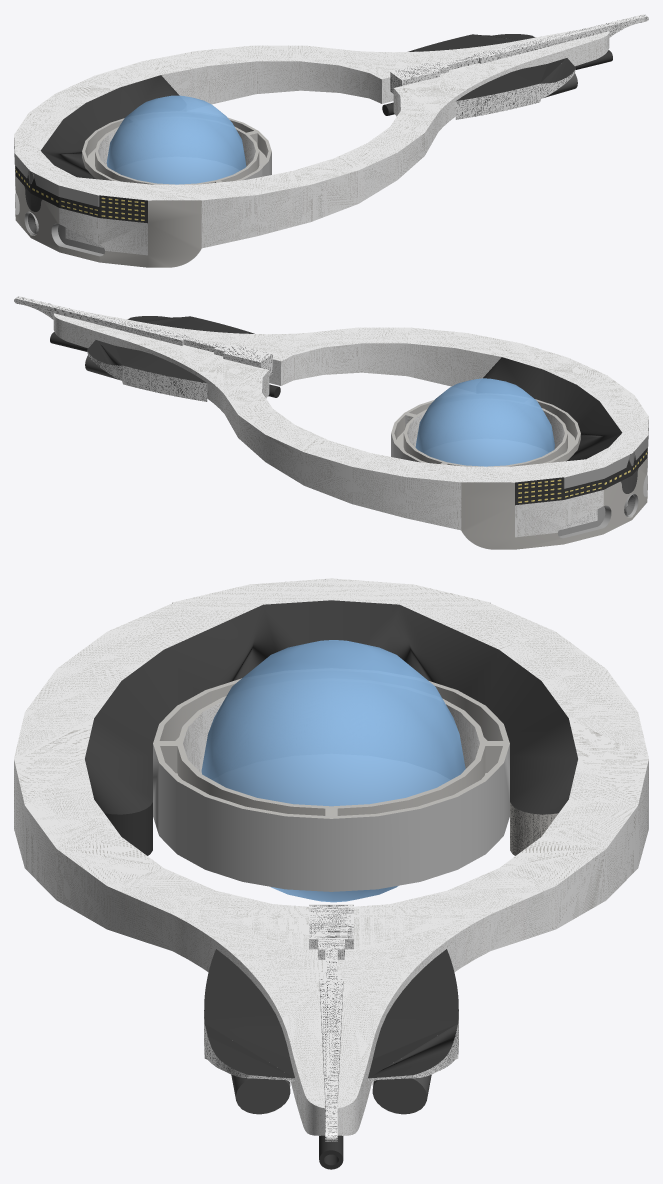
Rendered from Ori Mothership.dae.
3 renders of one model, top to bottom at view 1: azimuth 30°, elevation 25°; view 2: azimuth 150°, elevation 25°; view 3: azimuth 270°, elevation 25°, orthographic. The views are drawn at different scales.
Visible parts, largest first — view 1: ske1_1; view 2: ske1_1; view 3: ske1_1.
Part boxes in pixels (box(x1,y1,x2,y2)): ske1_1: box(14, 14, 648, 267); ske1_1: box(14, 296, 648, 549); ske1_1: box(14, 578, 648, 1169).
Size of the model in its own units: 825 by 390 by 163.
